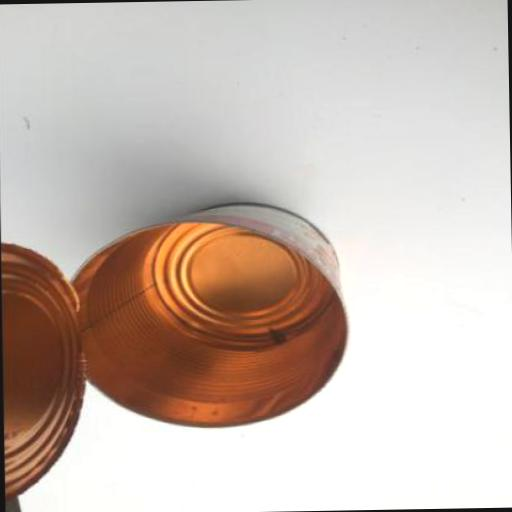metal: (0, 201, 351, 505), (66, 202, 348, 433), (1, 244, 83, 506)
